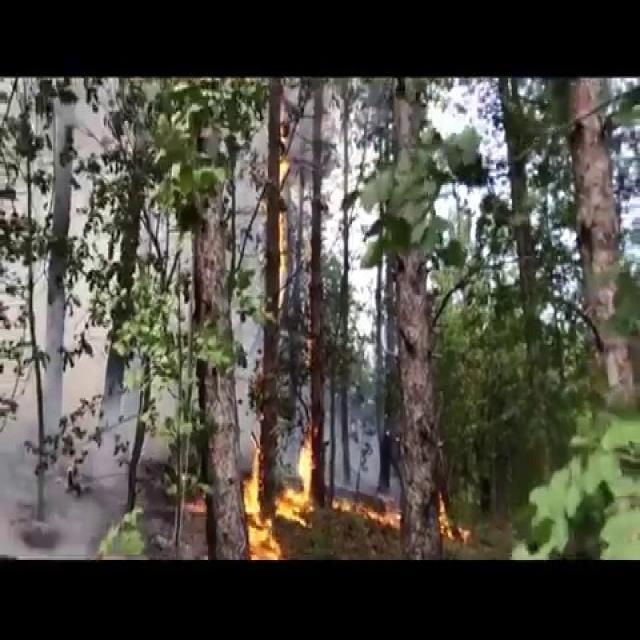Fire: (236, 423, 320, 558)
Smoke: (0, 257, 124, 558)
